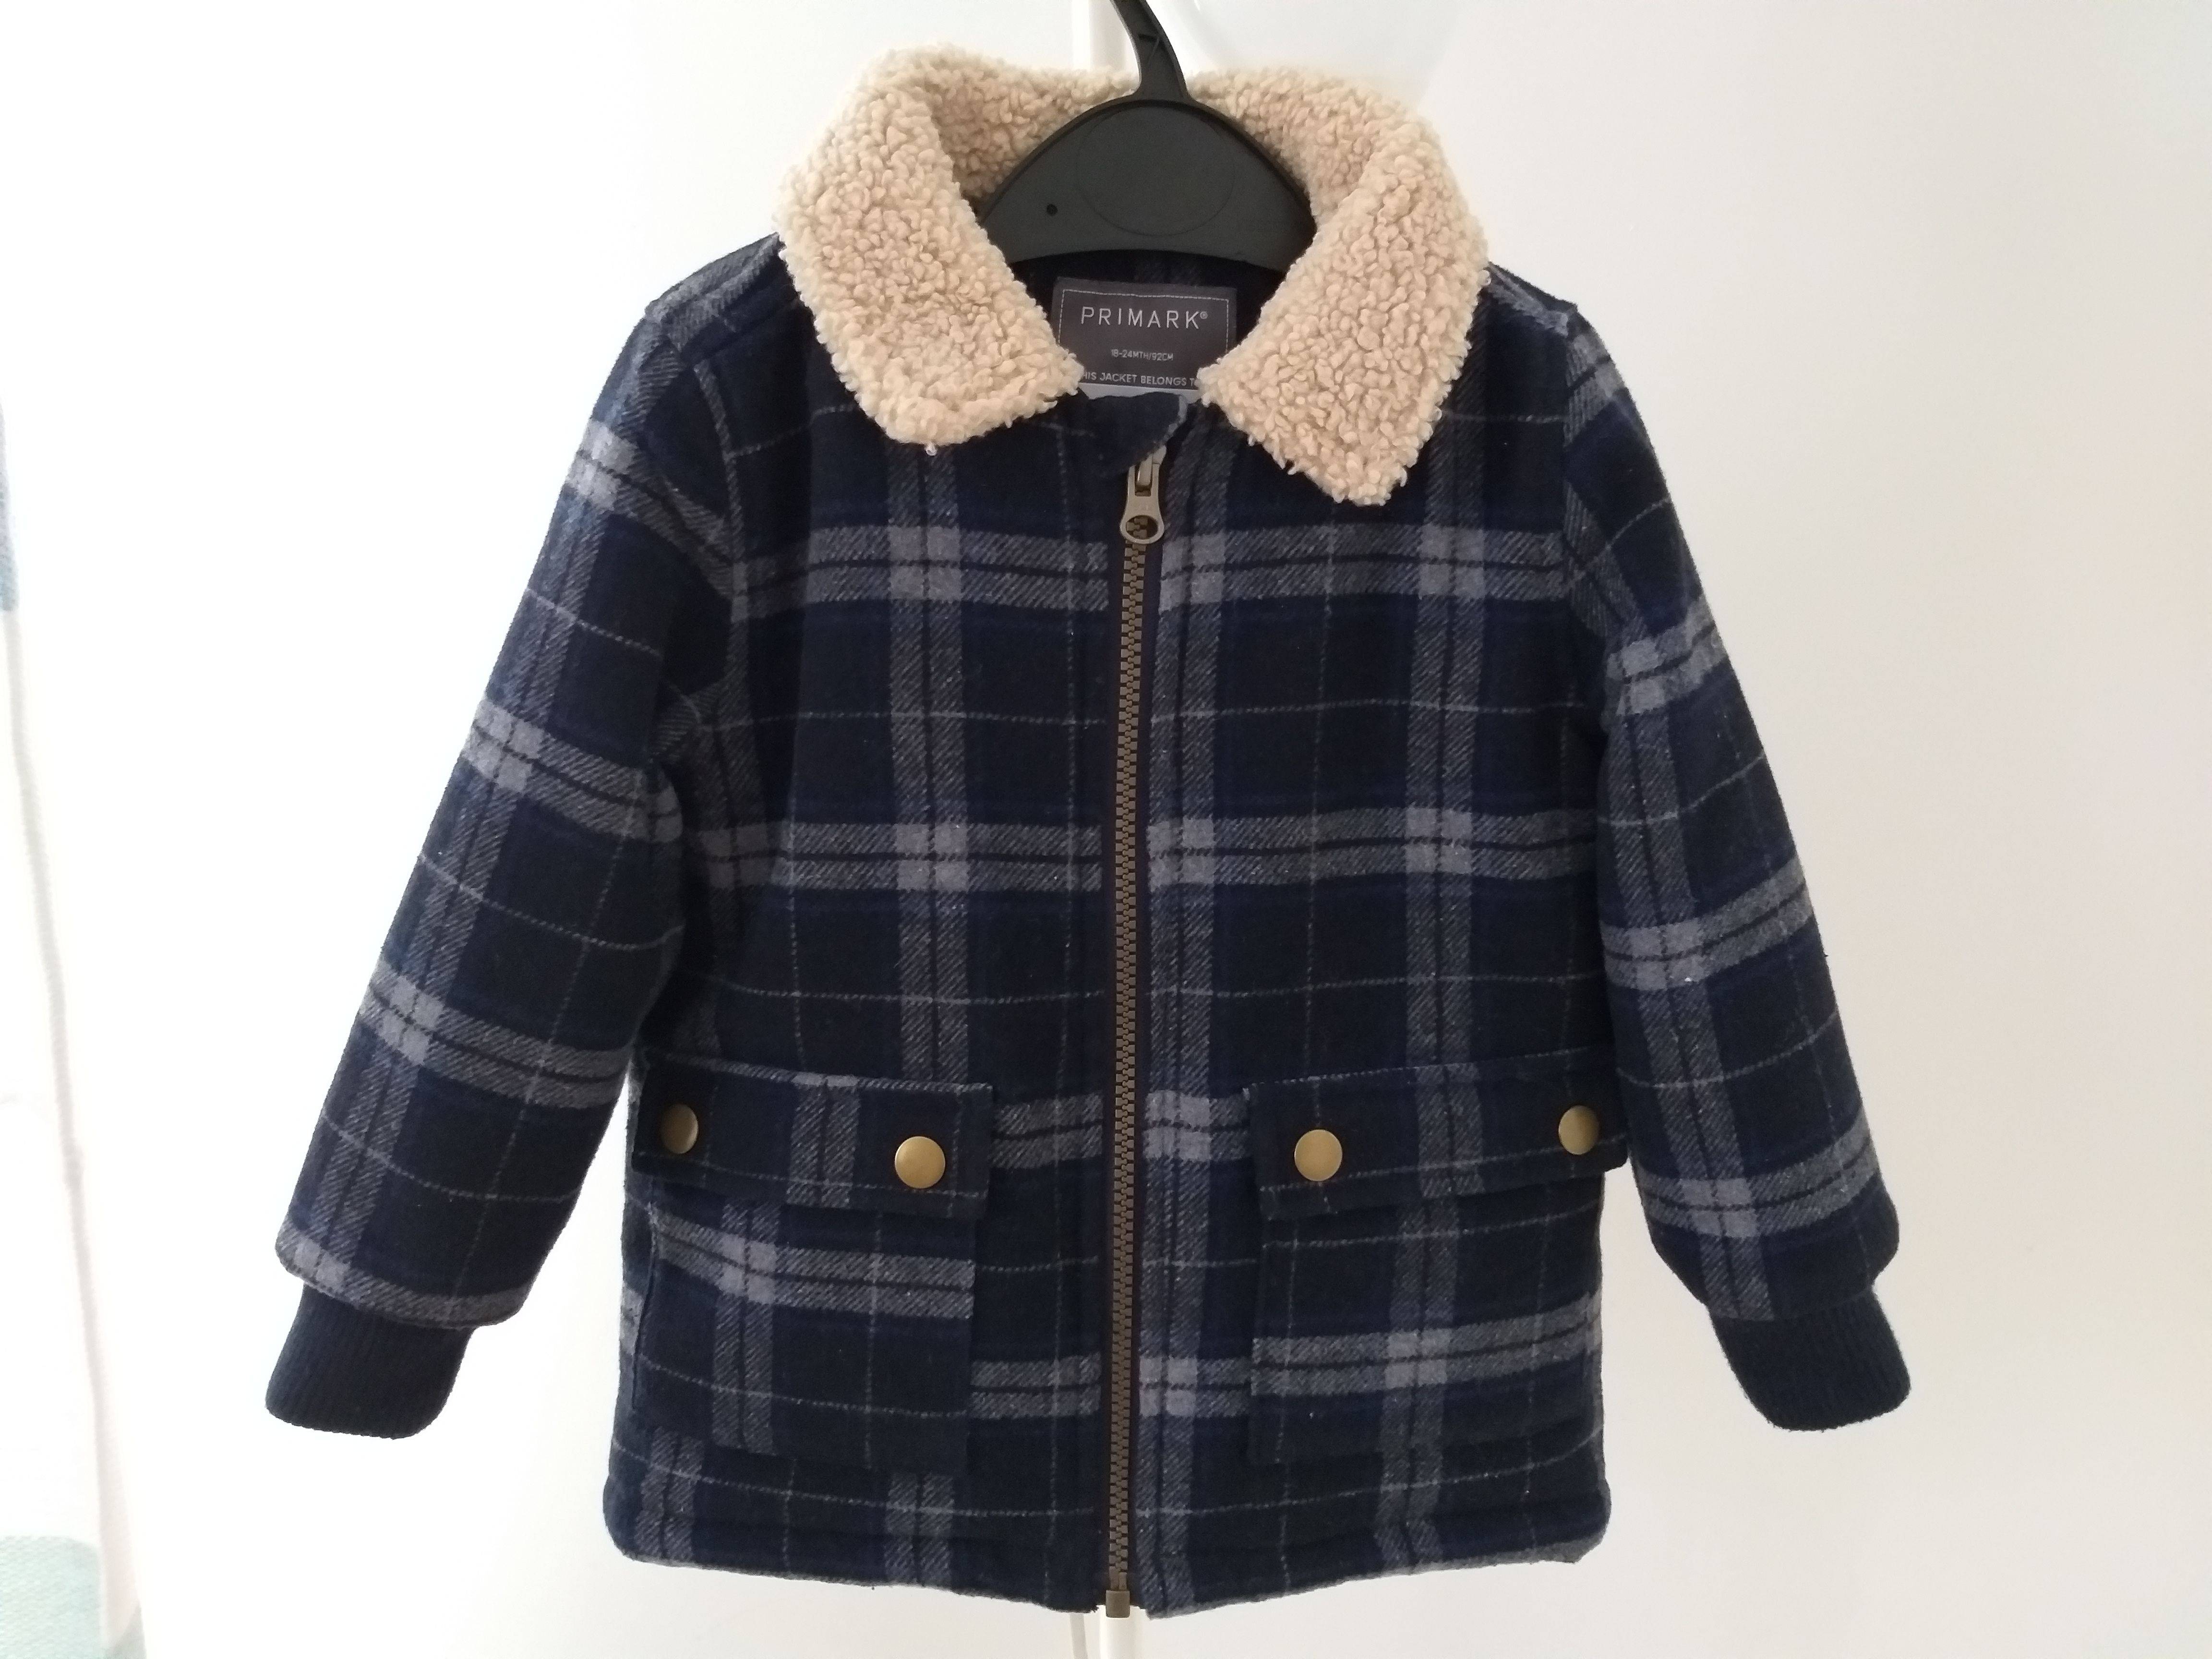clothes: (212, 23, 1925, 1614)
